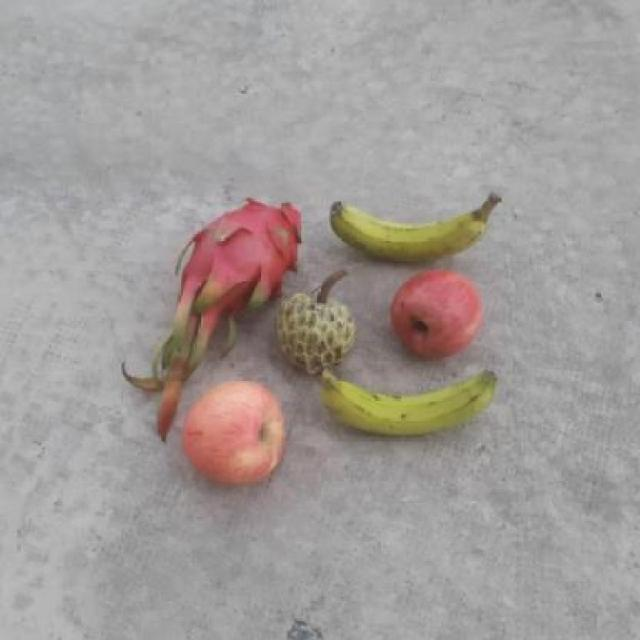apple: (179, 379, 285, 483), (377, 267, 478, 361)
banana: (311, 366, 508, 435), (326, 195, 503, 260)
dragon fruit: (178, 194, 304, 311)
sugar apple: (270, 292, 361, 373)
